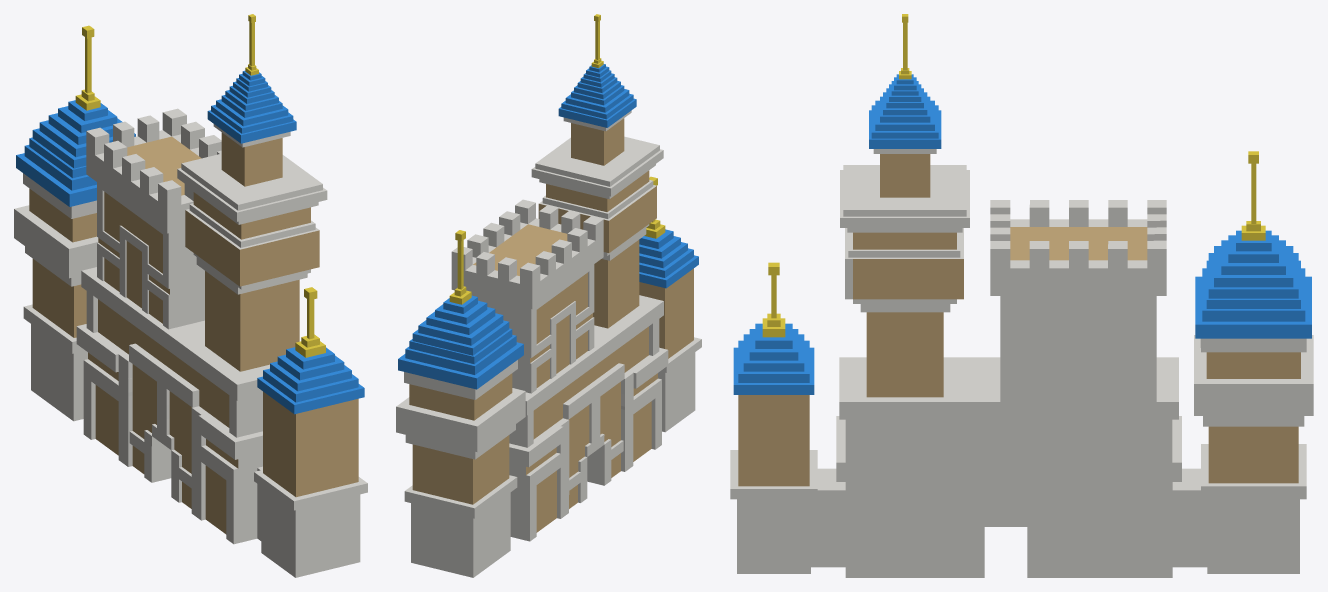
The picture shows the model from 3 angles, left to right: view 1: azimuth 30°, elevation 25°; view 2: azimuth 150°, elevation 25°; view 3: azimuth 270°, elevation 25°; orthographic projection. The views are drawn at different scales.
Parts seen in each view (by area): view 1: Box002; view 2: Box002; view 3: Box002.
Part boxes in pixels (bbox=[...]): Box002: bbox=[14, 14, 367, 577]; Box002: bbox=[396, 14, 701, 577]; Box002: bbox=[730, 14, 1313, 577].
Size of the model in its own units: 35.44 by 174 by 170.
Materials: 1 (1 with a texture image).
